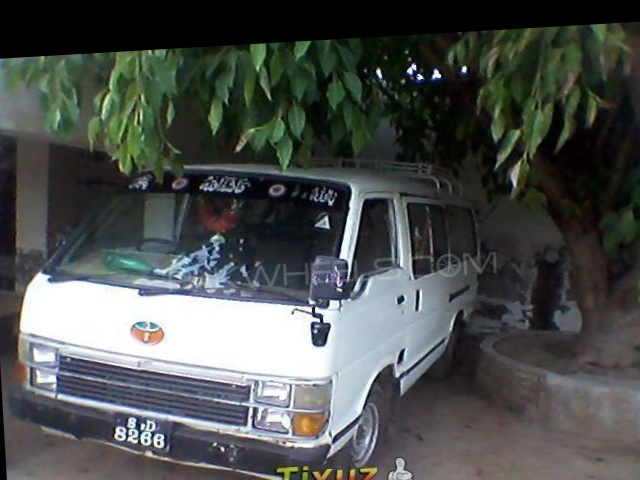van: (4, 143, 500, 480)
